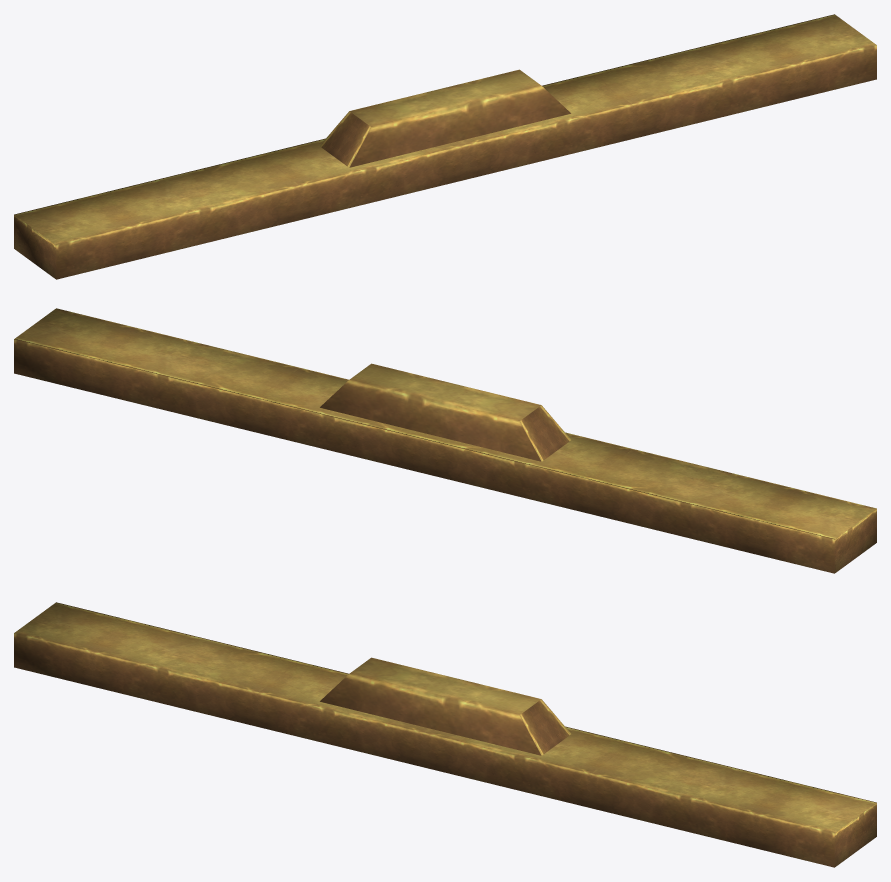
Rendered from G_hulan008.fbx.
The picture shows the model from 3 angles, top to bottom: view 1: azimuth 30°, elevation 25°; view 2: azimuth 150°, elevation 25°; view 3: azimuth 330°, elevation 25°; orthographic projection.
Parts seen in each view (by area): view 1: G_hulan008; view 2: G_hulan008; view 3: G_hulan008.
Boxes of the visible parts, x1,y1,x2,y2 form: G_hulan008: (14,14,876,279); G_hulan008: (14,308,876,573); G_hulan008: (14,602,876,867).
Bounding box in the file's own units: 364 × 27.88 × 32.53.
